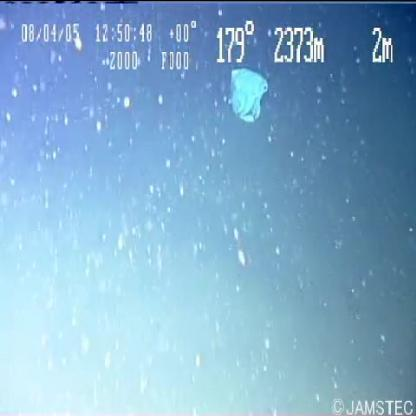Rác: (232, 69, 270, 125)
